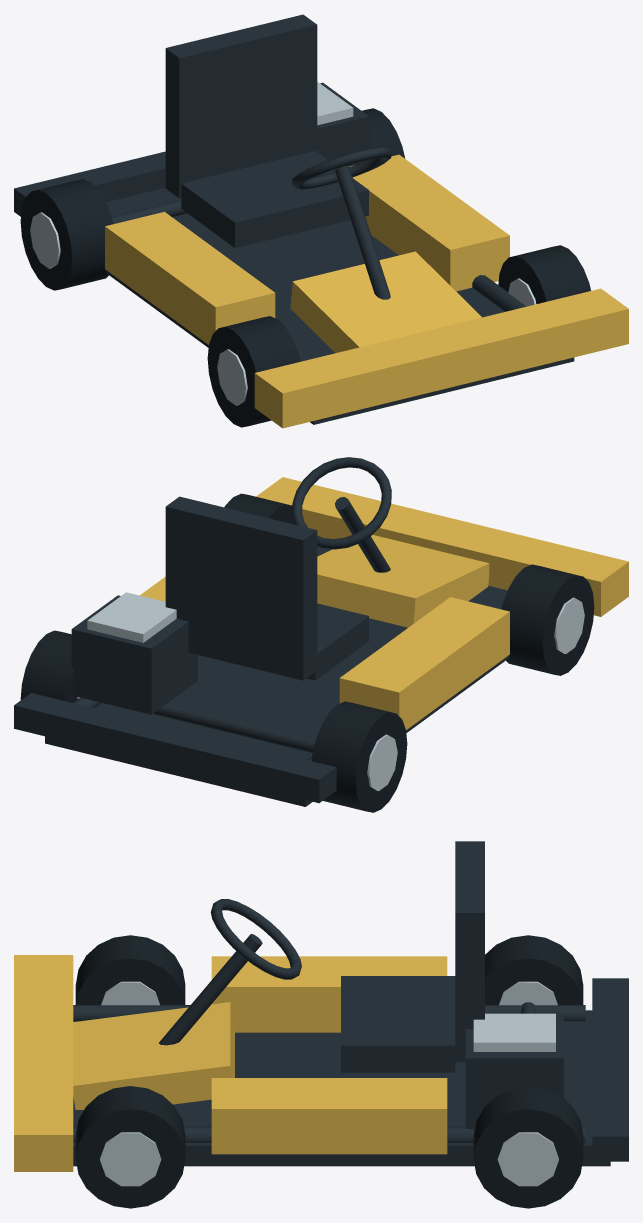
3 renders of one model, top to bottom at view 1: azimuth 30°, elevation 25°; view 2: azimuth 150°, elevation 25°; view 3: azimuth 270°, elevation 25°, orthographic. The views are drawn at different scales.
Visible parts, largest first — view 1: kart, seat-back, seat-cushion; view 2: kart, seat-back, seat-cushion; view 3: kart, seat-cushion, seat-back.
Boxes of the visible parts, x1,y1,x2,y2 form: kart: (14, 82, 628, 428); seat-back: (165, 14, 317, 198); seat-cushion: (181, 151, 368, 247); kart: (14, 457, 628, 812); seat-back: (165, 496, 317, 680); seat-cushion: (306, 603, 368, 680); kart: (14, 899, 628, 1208); seat-cushion: (341, 976, 455, 1072); seat-back: (455, 841, 484, 1061).
Bounding box in the file's own units: 1.86 × 1.18 × 2.69.
